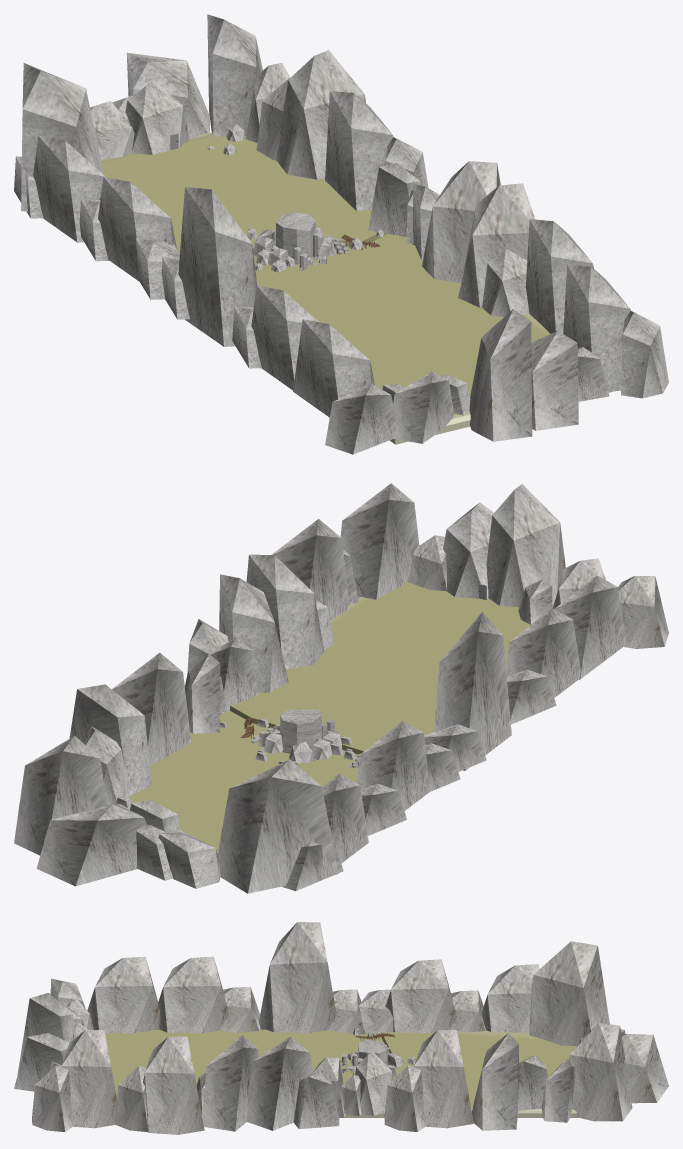
The model's file is cascade_vision.fbx.
The picture shows the model from 3 angles, top to bottom: view 1: azimuth 30°, elevation 25°; view 2: azimuth 150°, elevation 25°; view 3: azimuth 270°, elevation 25°; orthographic projection. The views are drawn at different scales.
Visible parts, largest first — view 1: montagne.045, Plane, montagne.035, montagne.047, montagne, Cylinder.017, montagne.020, montagne.032; view 2: montagne.045, Plane, montagne.035, montagne, montagne.047, Cylinder.017, montagne.020, montagne.048, montagne.032, montagne.006; view 3: montagne.045, montagne.035, Plane, montagne, montagne.047, montagne.006, Cylinder.017, montagne.020.
Part boxes in pixels (x1,y1,x2,y2): montagne.045: [207, 14, 668, 398]; Plane: [101, 132, 613, 444]; montagne.035: [33, 135, 374, 417]; montagne.047: [325, 309, 609, 454]; montagne: [21, 52, 209, 211]; Cylinder.017: [276, 212, 323, 265]; montagne.020: [247, 227, 335, 272]; montagne.032: [14, 156, 43, 218]; montagne.045: [14, 483, 419, 855]; Plane: [129, 582, 552, 853]; montagne.035: [322, 575, 626, 863]; montagne: [36, 759, 338, 893]; montagne.047: [408, 484, 668, 648]; Cylinder.017: [280, 709, 327, 753]; montagne.020: [255, 725, 355, 766]; montagne.048: [136, 824, 173, 880]; montagne.032: [281, 841, 343, 891]; montagne.006: [187, 619, 228, 673]; montagne.045: [32, 1023, 632, 1134]; montagne.035: [87, 922, 539, 1034]; Plane: [105, 1029, 578, 1117]; montagne: [529, 941, 668, 1103]; montagne.047: [14, 978, 93, 1091]; montagne.006: [293, 1070, 339, 1129]; Cylinder.017: [347, 1039, 387, 1070]; montagne.020: [340, 1052, 415, 1074].
Size of the model in its own units: 3107 by 1264 by 7033.
